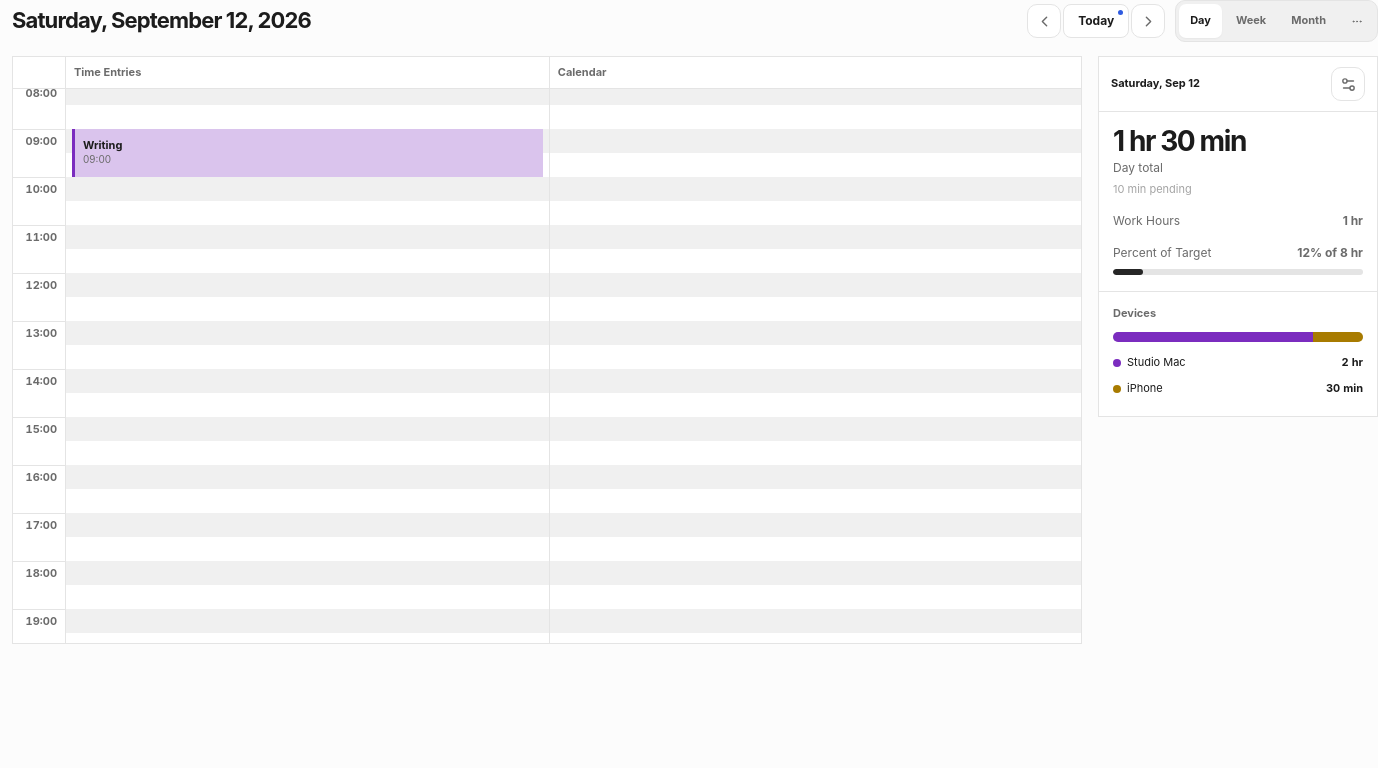
CalendarScreen › shows session time when hovering a time-entry block
The width and height of the screenshot is (1378, 768).
(page scrolled)
Hover over the button "Writing 09:00" at x=103, y=145, box left=72, top=129, right=543, bottom=177
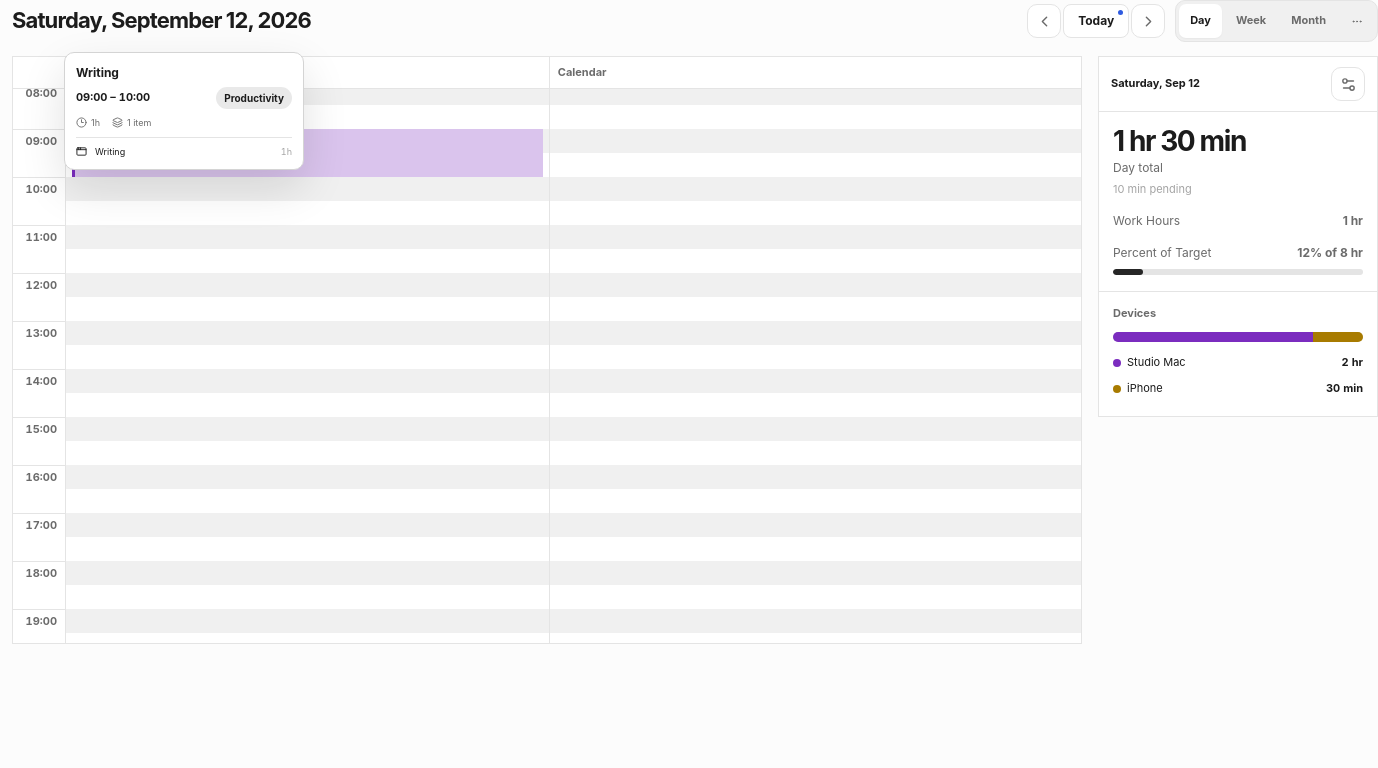
Result: the 1st text "Writing" is shown at left=76, top=65, right=119, bottom=80
Result: the text "1h" is shown at left=76, top=116, right=100, bottom=129
Move the pointer off the button "Writing 09:00", box left=72, top=129, right=543, bottom=177
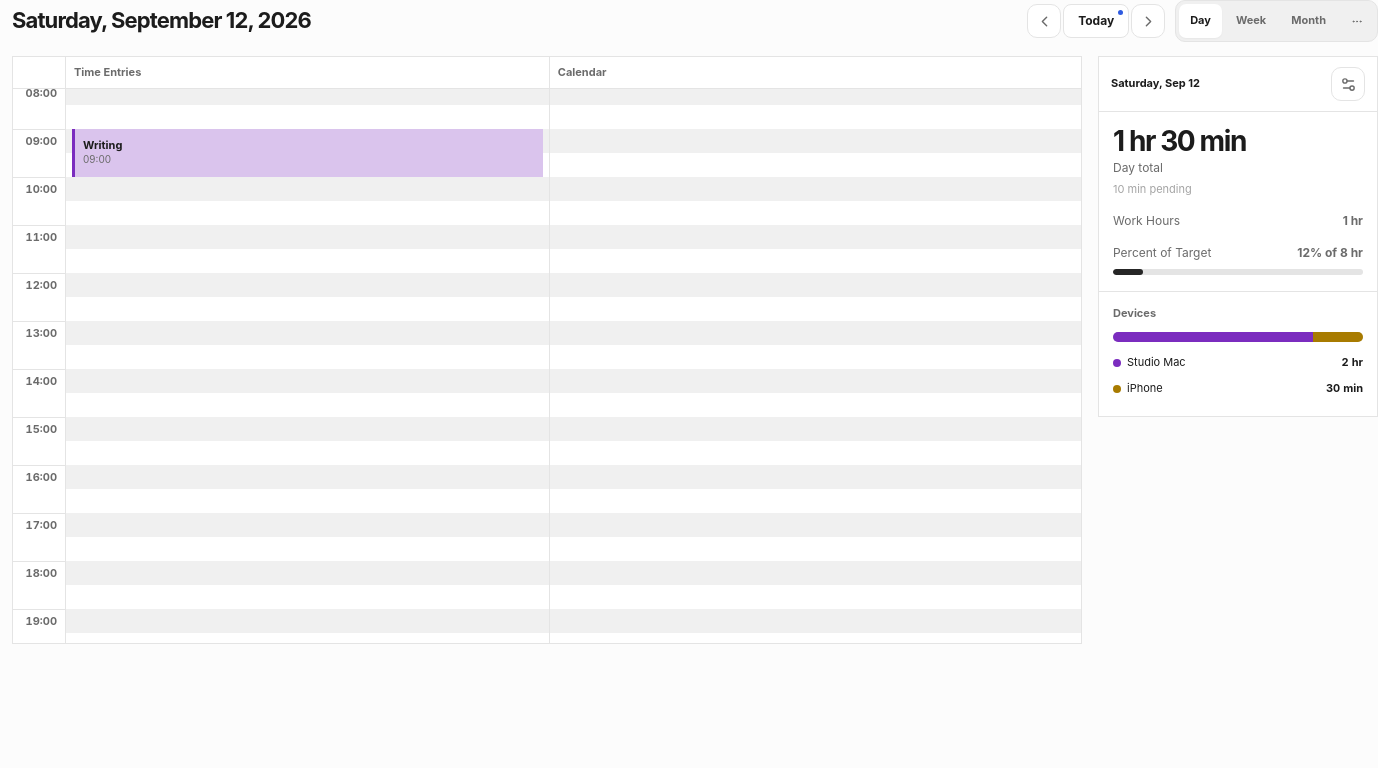
Result: the element with test id "session-hover-card" is gone
